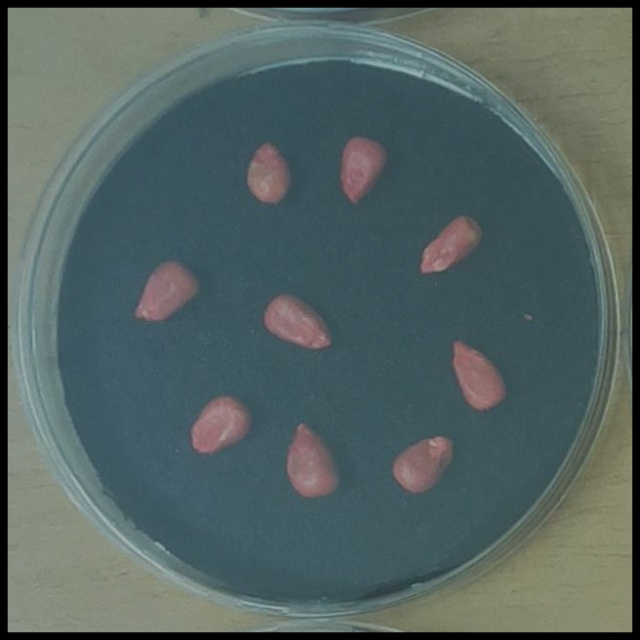Zea mays: (280, 414, 347, 504), (256, 286, 339, 358), (412, 204, 489, 281), (444, 333, 514, 417), (130, 252, 208, 325), (182, 387, 257, 461), (385, 427, 460, 500), (332, 127, 394, 208), (241, 134, 297, 209)
